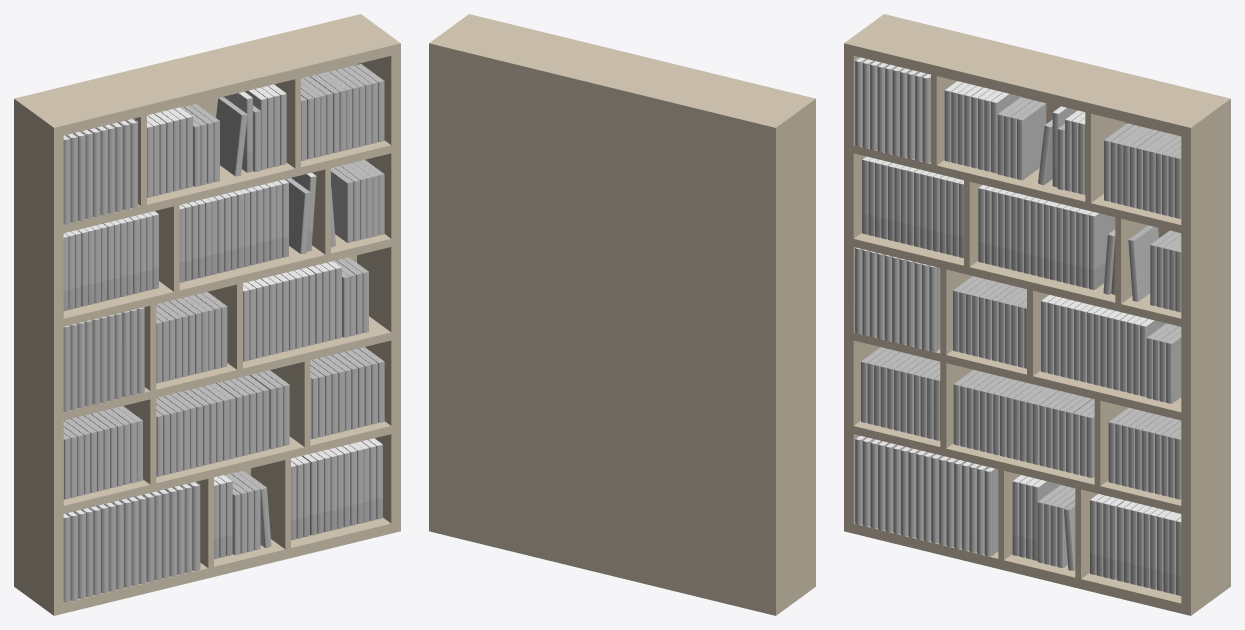
File: 736_bookshelf_filled.glb
3 renders of one model, left to right at view 1: azimuth 30°, elevation 25°; view 2: azimuth 150°, elevation 25°; view 3: azimuth 330°, elevation 25°, orthographic.
Parts seen in each view (by area): view 1: body; view 2: body; view 3: body.
Part boxes in pixels (bbox=[...]): body: bbox=[14, 14, 400, 615]; body: bbox=[429, 14, 815, 615]; body: bbox=[844, 14, 1230, 615].
Bounding box in the file's own units: 0.9 × 1.21 × 0.1816.
